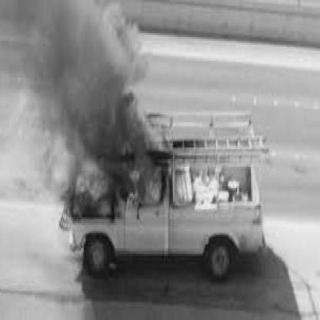Fire: (64, 81, 168, 221)
Smoke: (3, 0, 152, 88)
